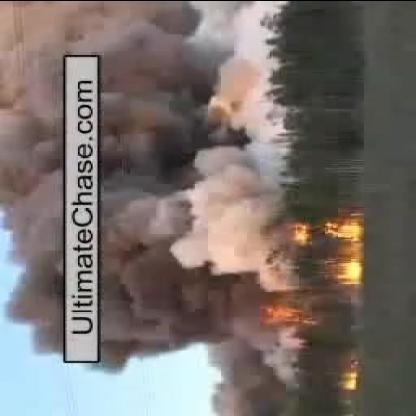-: (101, 7, 252, 358), (4, 10, 61, 356)
foggia-v2-map80-epoch100 - v1 4323: (331, 260, 363, 285), (326, 218, 360, 238)
